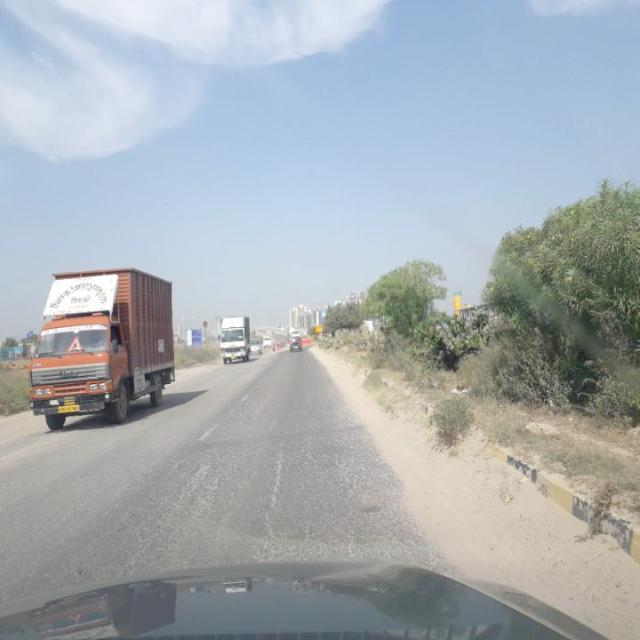crack: (64, 414, 409, 564)
pothole: (256, 439, 290, 532)
